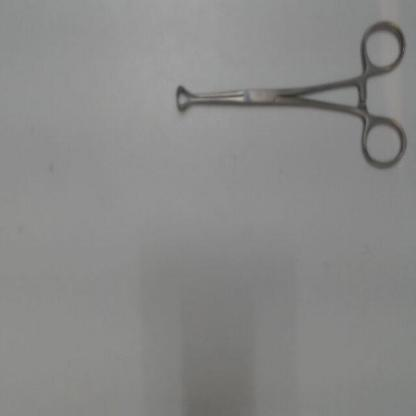Babcock Tissue Forceps: (172, 15, 411, 174)
